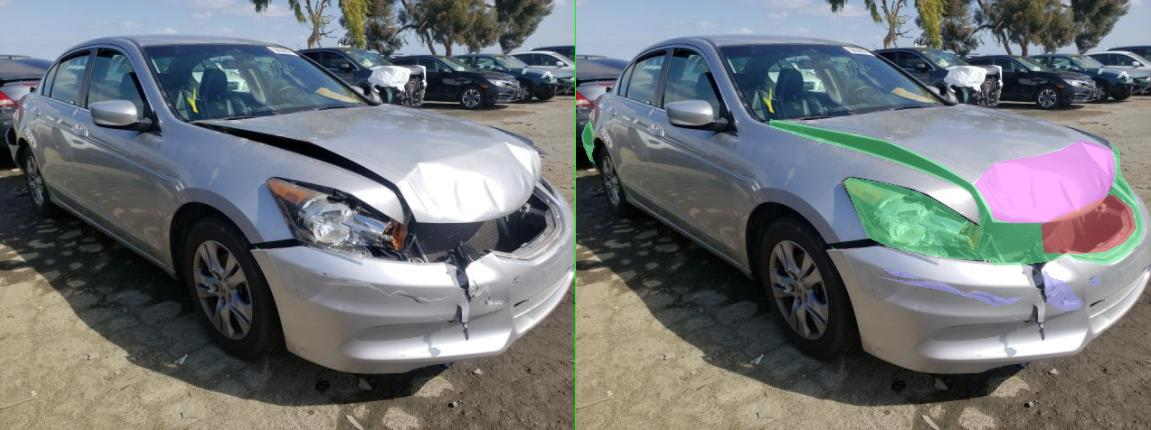Broken part: (386, 119, 1135, 264), (536, 177, 831, 260), (12, 120, 36, 163)
Dent: (795, 140, 1085, 224), (1031, 154, 1077, 189), (971, 182, 1009, 213), (1049, 176, 1067, 198), (909, 182, 921, 211)
Missing part: (931, 194, 1119, 253)
Scratch: (611, 277, 885, 305), (935, 270, 1013, 310), (617, 269, 685, 278), (1025, 274, 1049, 285)
